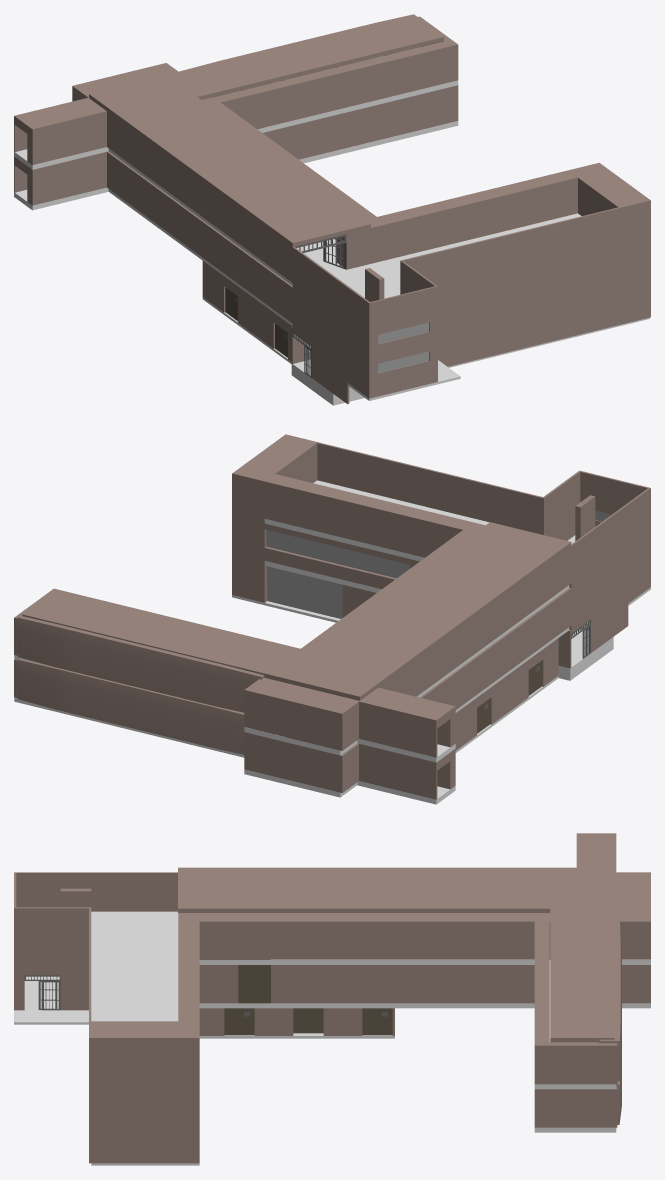
The model's file is Interior_Calle100.fbx.
3 renders of one model, top to bottom at view 1: azimuth 30°, elevation 25°; view 2: azimuth 150°, elevation 25°; view 3: azimuth 270°, elevation 25°, orthographic. The views are drawn at different scales.
Visible parts, largest first — view 1: pPlane2, pCube92, pCube201, pCube193, pasted__pCube201, polySurface20 (×2), pasted__polySurface20, pCube177, pCube192, pCube32, pCube6, pCube197 (+12 smaller); view 2: pPlane2, pCube201, polySurface20 (×2), pasted__polySurface20, pCube193, pasted__pCube201, pCube92, pCube177, polySurface1, pCube32, pCube202, pCube192 (+21 smaller); view 3: pPlane2, pCube177, polySurface1, pCube192, pasted__polySurface1, pCube207, pCube32, pPlane1, pasted__pCube207, pCube4, polySurface20 (×2), pCube3 (+15 smaller).
Part boxes in pixels (<box>): pPlane2: <box>89,15,443,246</box>; pCube92: <box>400,207,619,366</box>; pCube201: <box>14,97,292,282</box>; pCube193: <box>337,170,577,269</box>; pasted__pCube201: <box>14,151,292,323</box>; polySurface20 (×2): <box>179,14,451,129</box>; pasted__polySurface20: <box>263,87,451,159</box>; pCube177: <box>568,162,650,324</box>; pCube192: <box>14,80,581,298</box>; pCube32: <box>292,247,334,360</box>; pCube6: <box>347,287,371,398</box>; pCube197: <box>370,286,436,336</box>; pPlane2: <box>22,522,571,700</box>; pCube201: <box>357,546,571,757</box>; polySurface20 (×2): <box>16,590,300,712</box>; pasted__polySurface20: <box>16,658,244,754</box>; pCube193: <box>264,474,484,557</box>; pasted__pCube201: <box>359,589,571,799</box>; pCube92: <box>317,442,544,534</box>; pCube177: <box>232,434,317,602</box>; polySurface1: <box>244,555,440,736</box>; pCube32: <box>569,515,613,633</box>; pCube202: <box>286,687,358,750</box>; pCube192: <box>14,480,572,762</box>; pPlane2: <box>178,867,614,1042</box>; pCube177: <box>89,1021,199,1163</box>; polySurface1: <box>271,900,650,959</box>; pCube192: <box>91,911,650,1089</box>; pasted__polySurface1: <box>271,965,650,1003</box>; pCube207: <box>534,1042,617,1084</box>; pCube32: <box>91,872,177,911</box>; pPlane1: <box>199,913,270,959</box>; pasted__pCube207: <box>534,1087,617,1127</box>; pCube4: <box>14,907,60,975</box>; polySurface20 (×2): <box>534,917,621,1081</box>; pCube3: <box>60,907,91,1010</box>.
Bounding box in the file's own units: 95.31 × 29.79 × 121.
